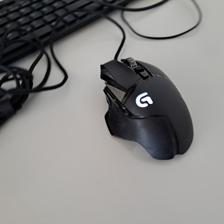mouse: (98, 56, 194, 161)
